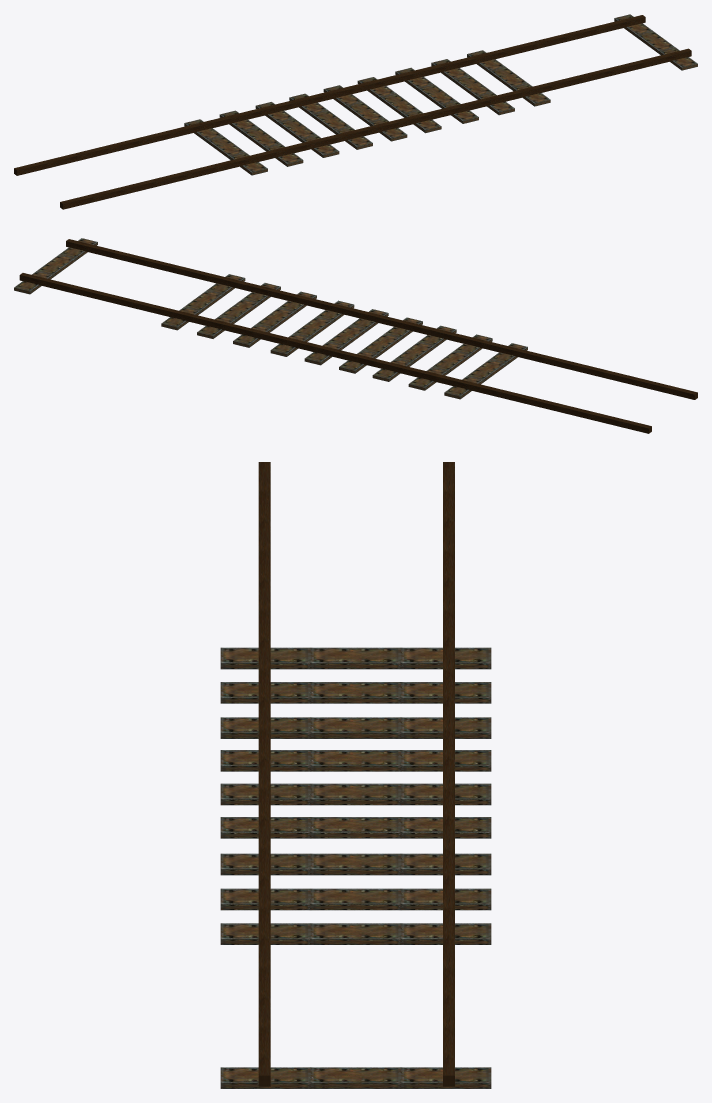
Rendered from DWARF_PALACE_FORGE_MINECART_TRACKS.fbx.
The picture shows the model from 3 angles, top to bottom: view 1: azimuth 30°, elevation 25°; view 2: azimuth 150°, elevation 25°; view 3: azimuth 270°, elevation 25°; orthographic projection. The views are drawn at different scales.
Parts seen in each view (by area): view 1: DWARF_PALACE_FORGE_MINECART_TRACKS; view 2: DWARF_PALACE_FORGE_MINECART_TRACKS; view 3: DWARF_PALACE_FORGE_MINECART_TRACKS.
Part boxes in pixels (x1,y1,x2,y2): DWARF_PALACE_FORGE_MINECART_TRACKS: (14, 14, 697, 209); DWARF_PALACE_FORGE_MINECART_TRACKS: (14, 238, 697, 433); DWARF_PALACE_FORGE_MINECART_TRACKS: (220, 462, 491, 1088).
Bounding box in the file's own units: 119412 × 1488 × 22262.
2 materials, 2 textured.
